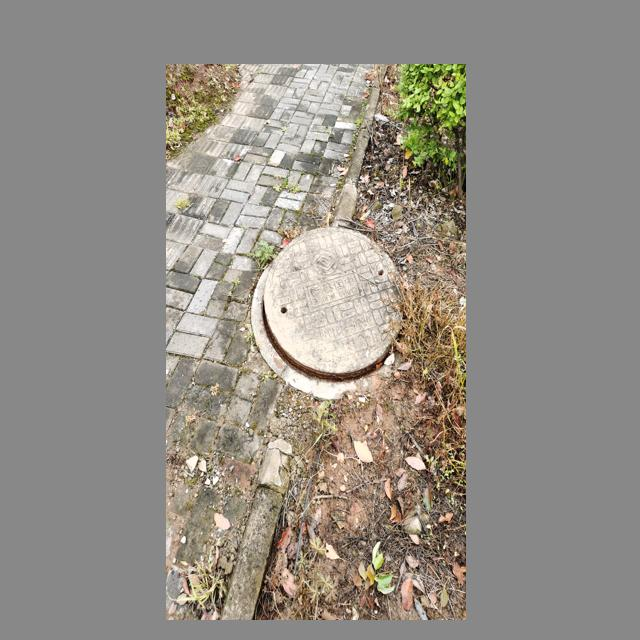uncovered: (251, 224, 403, 398)
